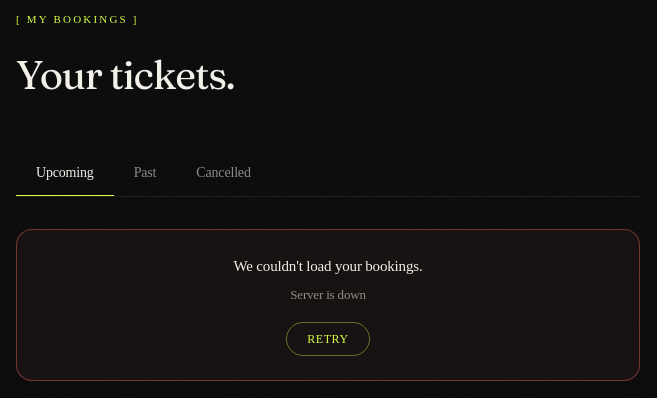
Scenario: /my-bookings › shows an error with Retry when loading fails, not an empty state
Check: the message shows "We couldn't load your bookings", box [234,258,422,274]
Check: the message shows "Server is down", box [290,287,366,302]
Step 1. Click the button "Retry" → (328,339), box [286,322,370,356]
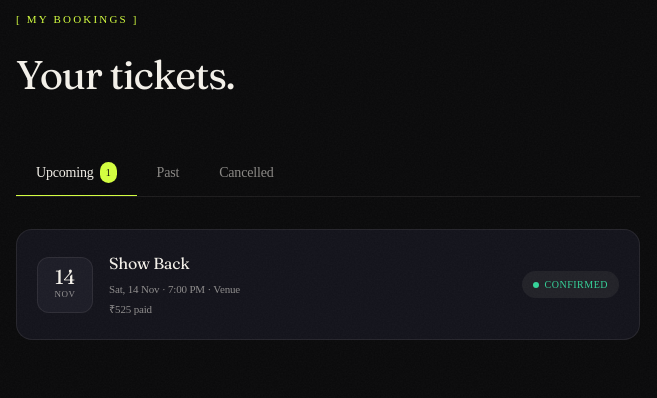
Check: the text "Show Back" is shown, box [109,254,190,274]
Check: the message "We couldn't load your bookings. Server is down Retry" is gone
